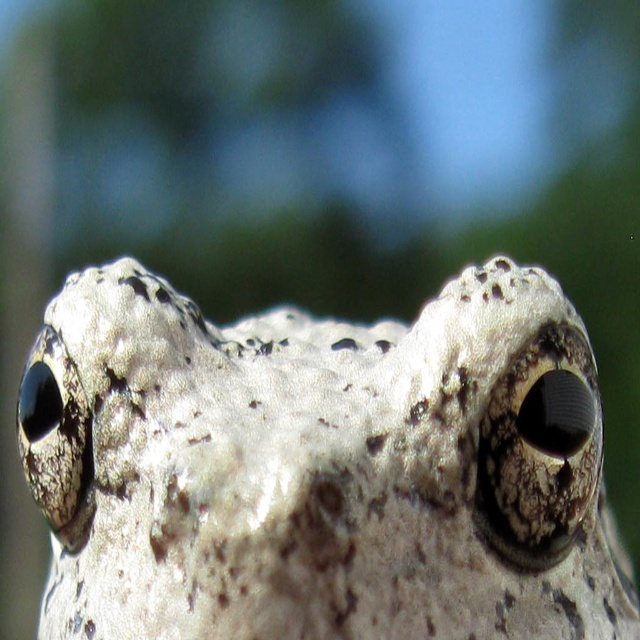Frog: (14, 255, 639, 639)
